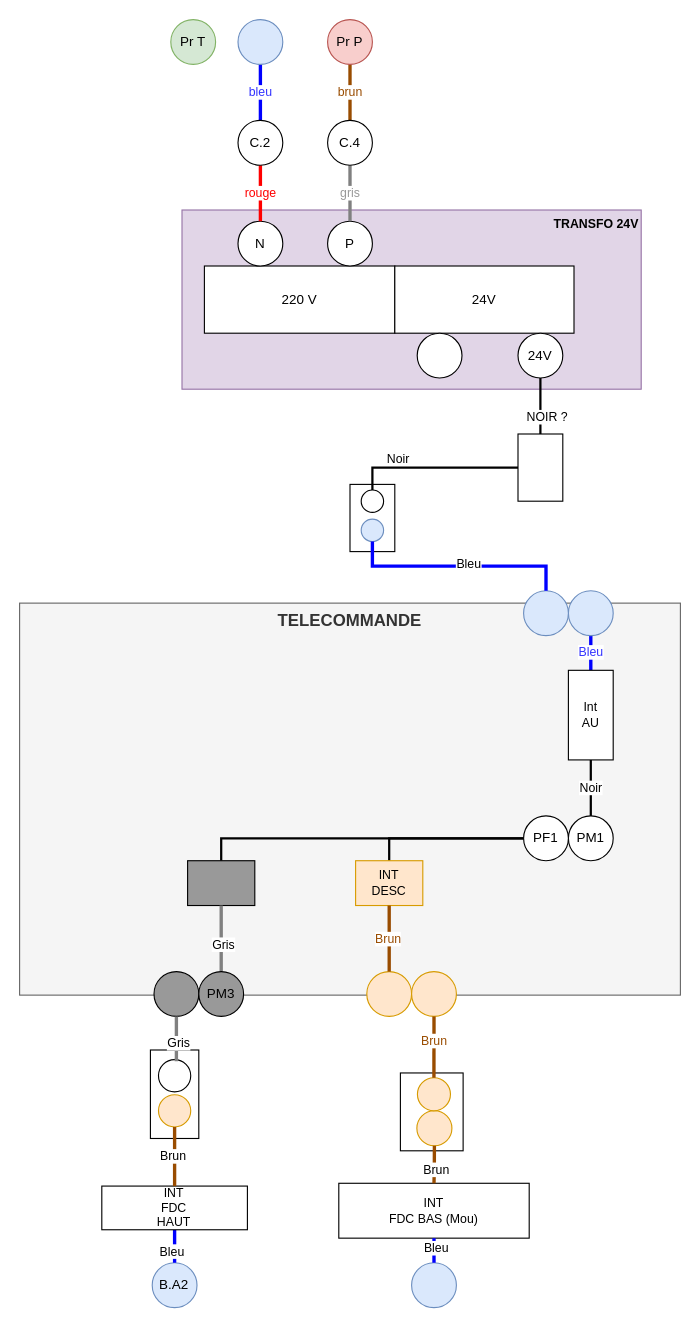
Some shapes in this 700 by 1327 pixel diagram are drawn without their labels. The shapes that lost their labels are listed below. From the top down, each one's centre as x and y in pixels, then its label:
point (260, 41): Pr N
point (439, 355): Gnd
point (540, 467): fuse
point (545, 613): PF2
point (590, 613): PM2
point (220, 883): INT MONTEE
point (176, 993): PF3
point (389, 993): PM4
point (433, 993): PF4
point (433, 1285): A.A2
